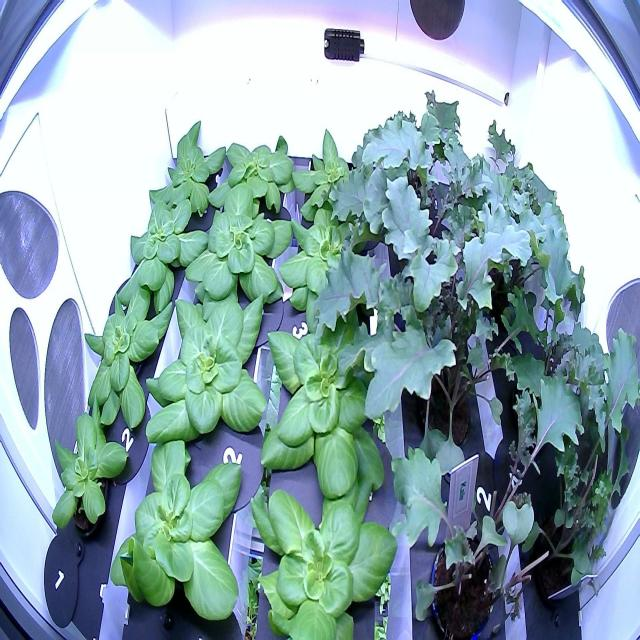young: (257, 293, 408, 507), (100, 430, 256, 622), (243, 466, 412, 639), (142, 282, 276, 451), (270, 190, 384, 341), (174, 176, 300, 310), (76, 274, 179, 434), (39, 388, 134, 534), (114, 185, 214, 314), (199, 131, 301, 236), (285, 122, 379, 233), (143, 109, 229, 228)
